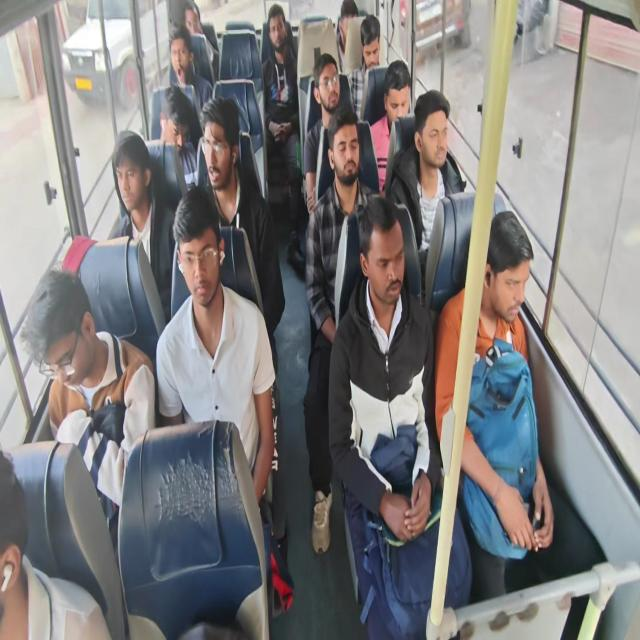person: (327, 195, 473, 638), (434, 209, 555, 563), (156, 184, 276, 508), (20, 266, 156, 536), (304, 105, 381, 554), (196, 95, 285, 375), (0, 448, 112, 638), (385, 88, 463, 280), (108, 129, 176, 323), (261, 4, 303, 255), (303, 52, 342, 215), (369, 59, 412, 194), (158, 84, 198, 188), (168, 23, 212, 112), (347, 14, 381, 121), (183, 0, 217, 81), (335, 0, 358, 73)
